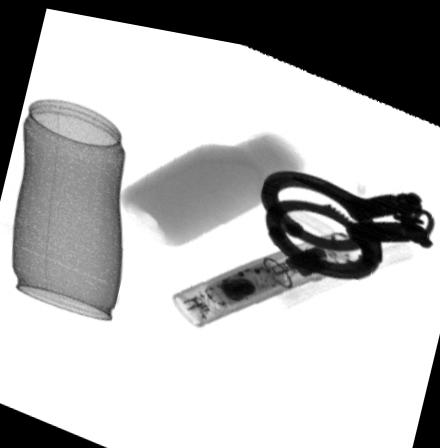Baton: (170, 217, 365, 321)
HandCuffs: (259, 159, 437, 268)
